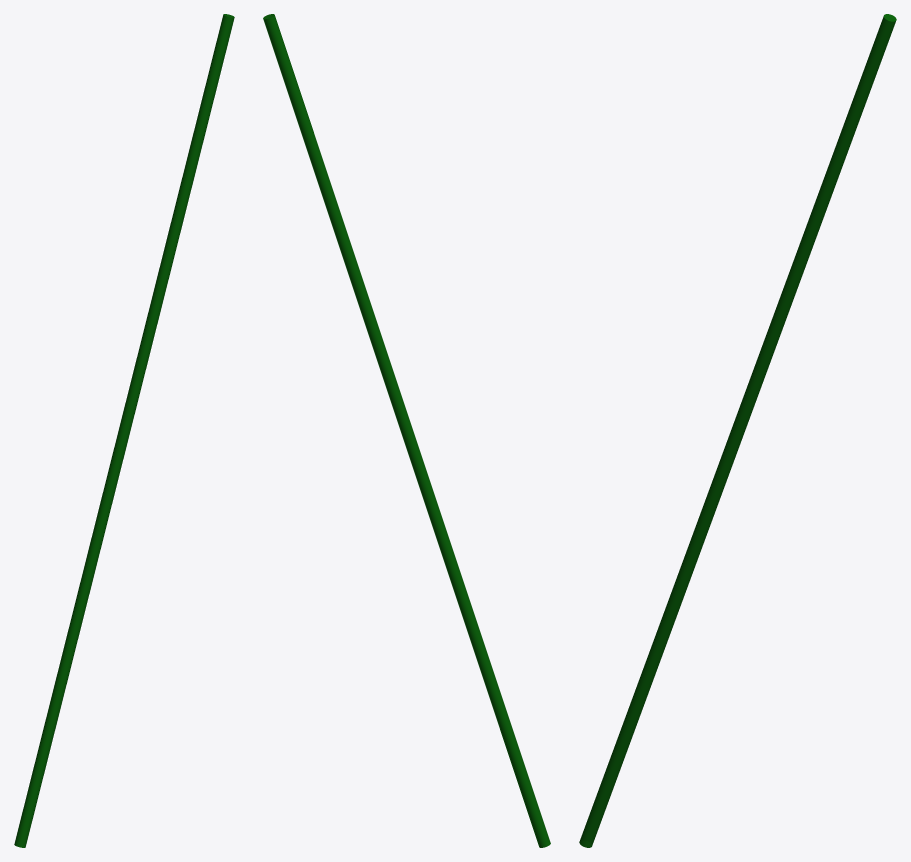
The model's file is Event_421127236_jet_1.fbx.
3 views of the same model, side by side, from view 1: azimuth 30°, elevation 25°; view 2: azimuth 150°, elevation 25°; view 3: azimuth 330°, elevation 25° (orthographic). The views are drawn at different scales.
Visible parts, largest first — view 1: Model; view 2: Model; view 3: Model.
Part boxes in pixels (x1,y1,x2,y2): Model: (14, 14, 234, 847); Model: (263, 14, 550, 847); Model: (579, 14, 896, 847).
Size of the model in its own units: 0.974 by 2.86 by 0.2262.
